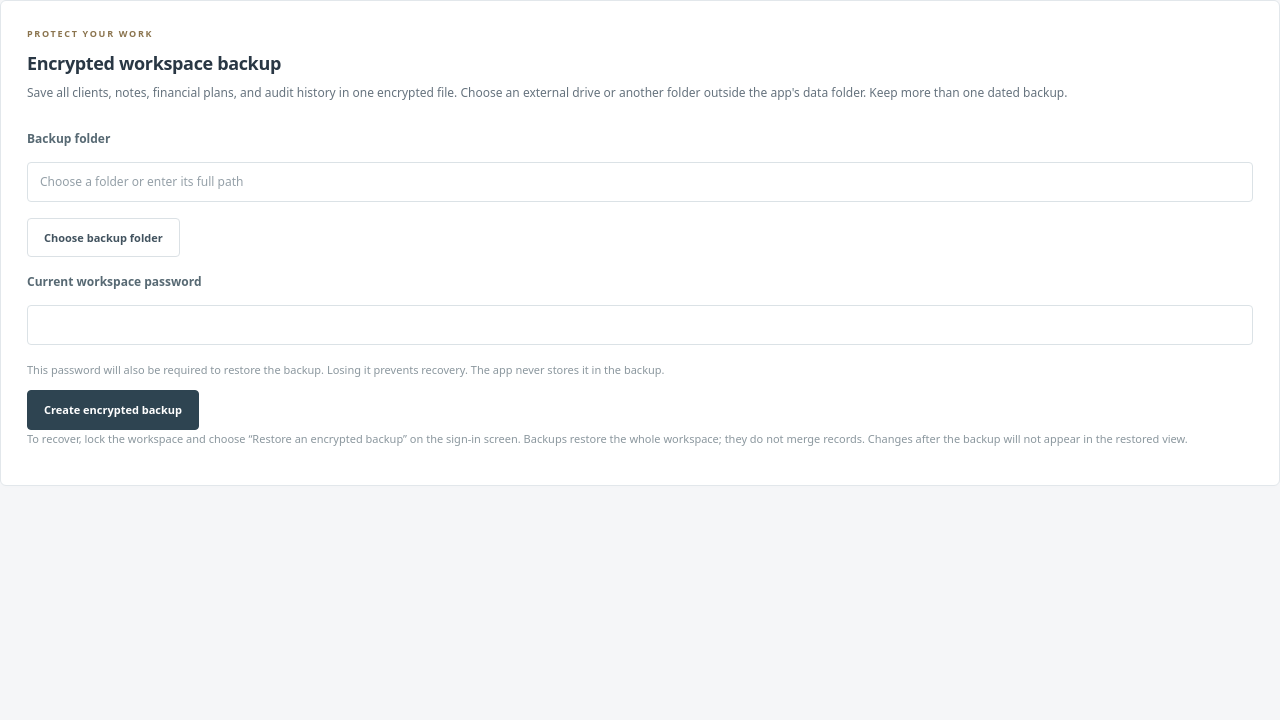
Scenario: encrypted backup and recovery controls › keeps the destination on errors and distinguishes a saved file from audit/durability warnings
In the field labelled "Backup folder": (640, 182) top-left (27, 162), bottom-right (1253, 202), type "D:\\Backups"
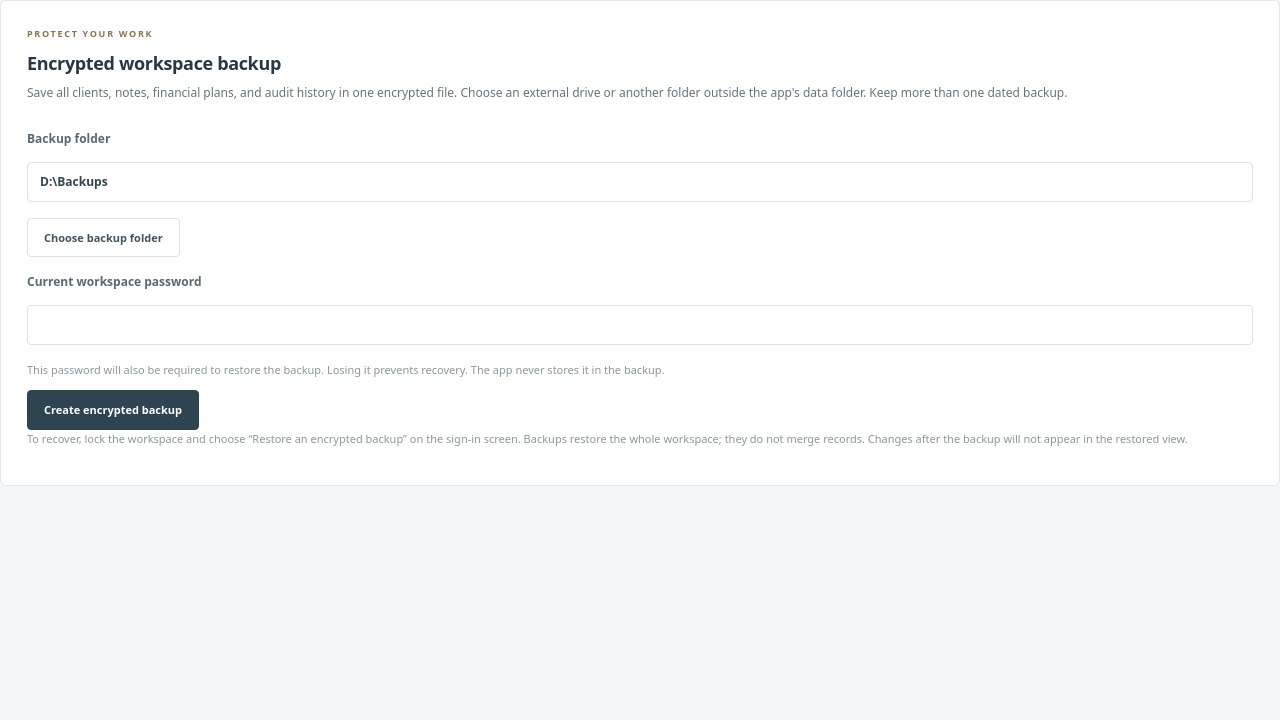
In the password field labelled "Current workspace password": (640, 325) top-left (27, 305), bottom-right (1253, 345), type "Wrong-fictional-password"
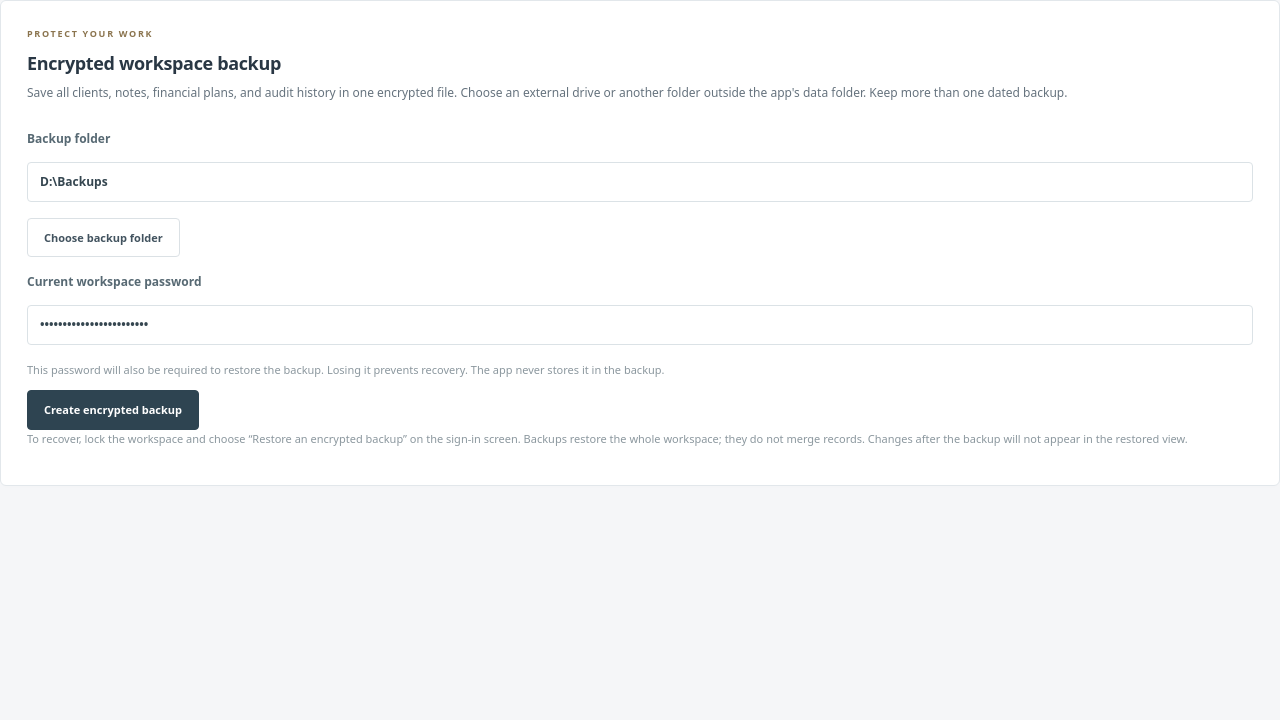
Click the button "Create encrypted backup": (113, 410) top-left (27, 390), bottom-right (199, 430)
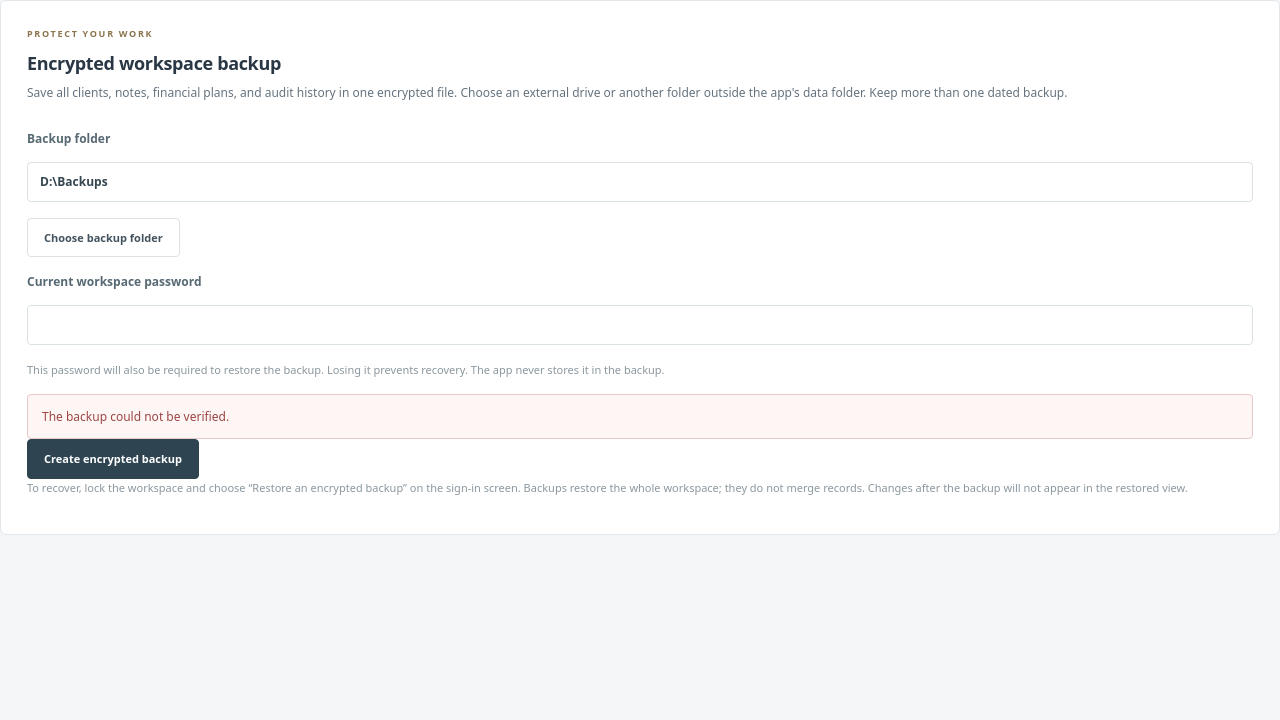
expect the message "The backup could not be verified." is shown: met, box top-left (27, 394), bottom-right (1253, 440)
expect the password field labelled "Current workspace password" is empty: met
In the password field labelled "Current workspace password": (640, 325) top-left (27, 305), bottom-right (1253, 345), type "Synthetic-password-42"
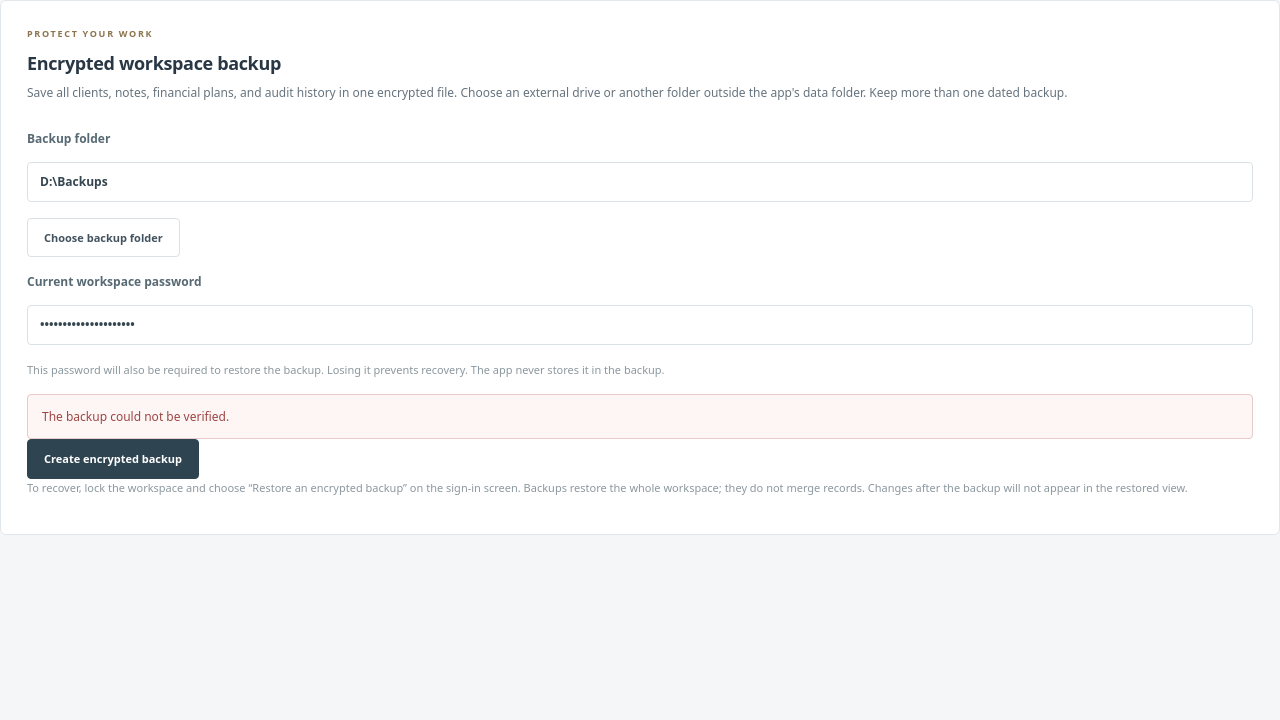
Click the button "Create encrypted backup": (113, 459) top-left (27, 440), bottom-right (199, 479)
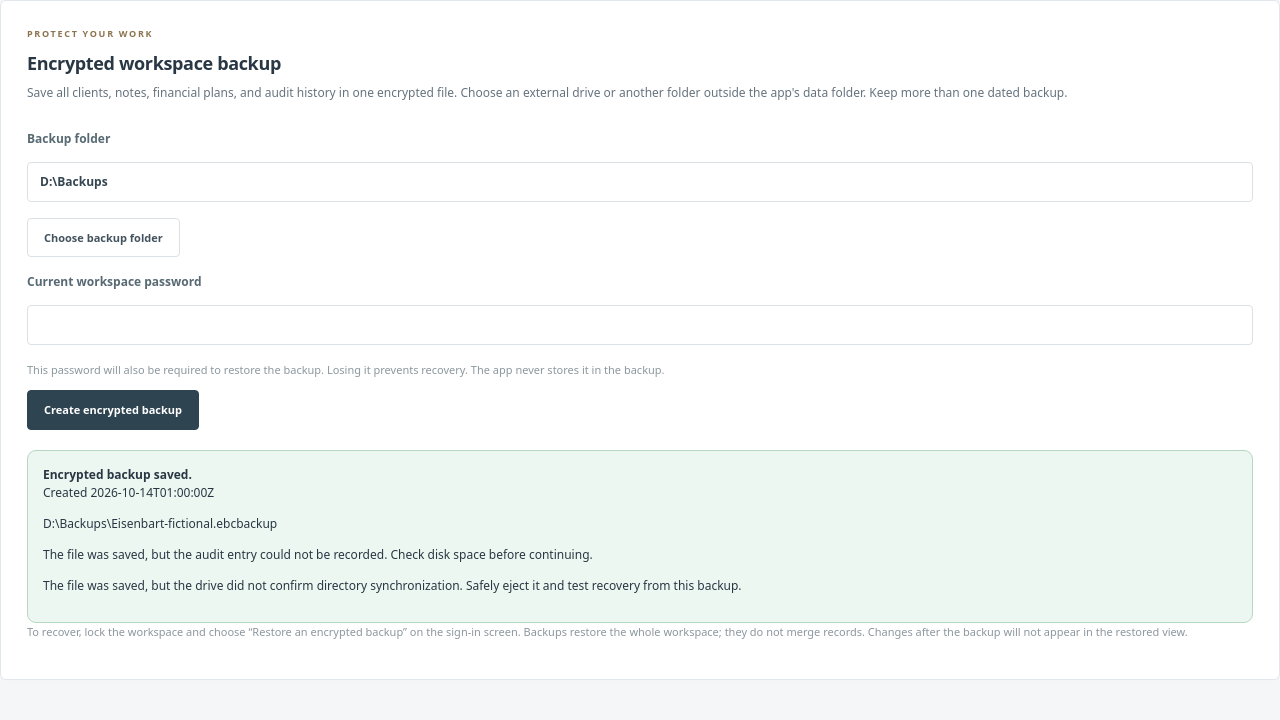
expect the message is shown: met, box top-left (27, 450), bottom-right (1253, 624)
expect the message shows "audit entry could not be recorded": met, box top-left (43, 546), bottom-right (593, 563)
expect the message shows "drive did not confirm": met, box top-left (43, 577), bottom-right (742, 594)
